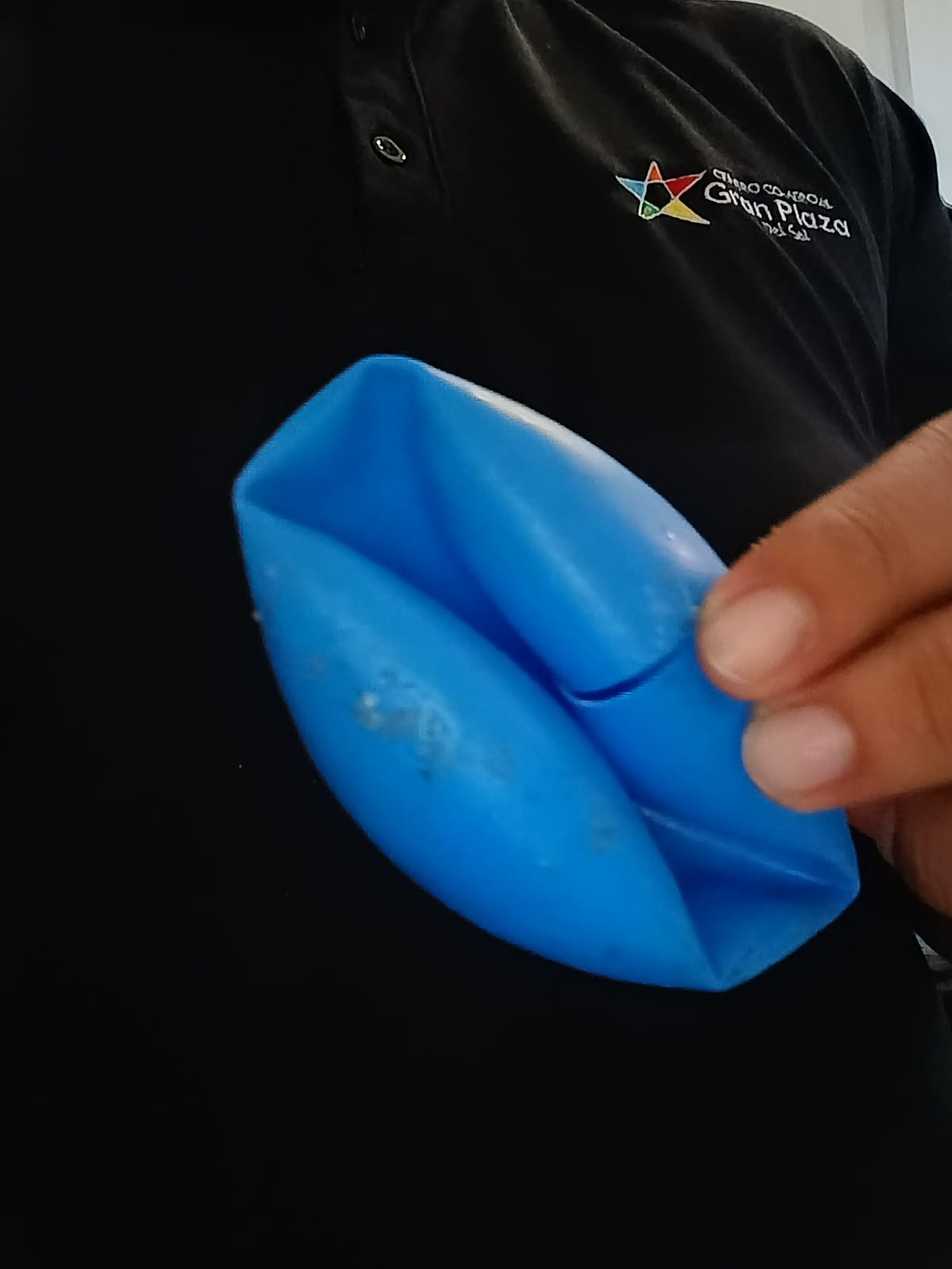Plastico: (227, 356, 867, 989)
